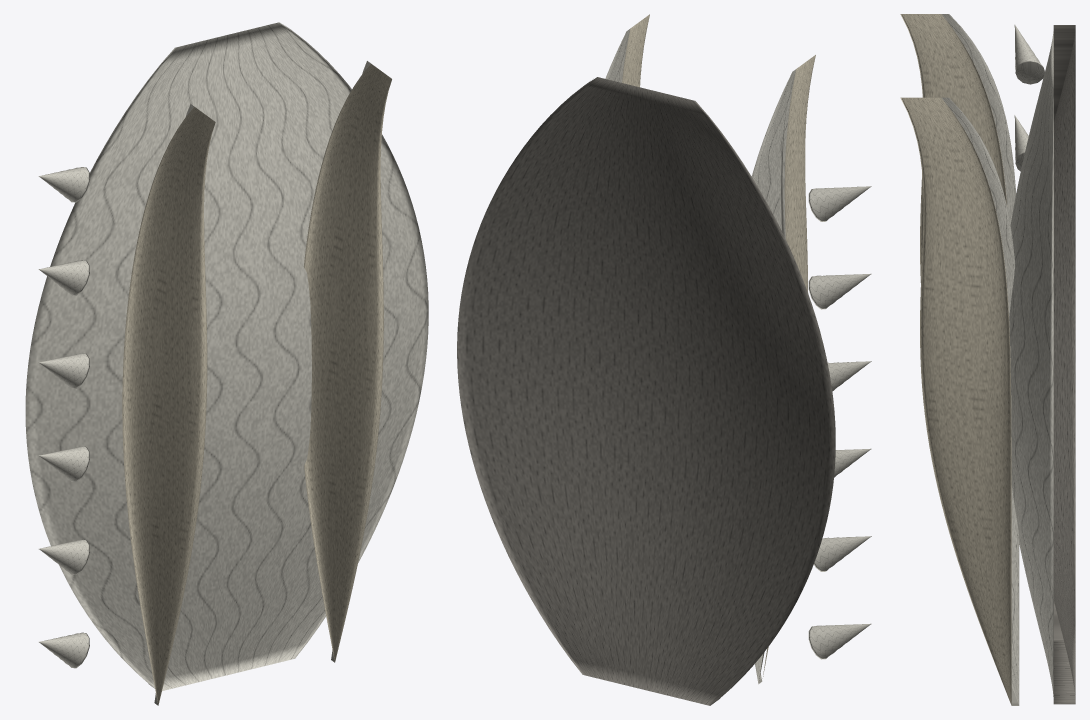
The model's file is nightmare_plate.glb.
3 renders of one model, left to right at view 1: azimuth 30°, elevation 25°; view 2: azimuth 150°, elevation 25°; view 3: azimuth 270°, elevation 25°, orthographic. The views are drawn at different scales.
Parts seen in each view (by area): view 1: Pale ivory dragon shoulder cortex, Raised white bone ridges; view 2: Fibrous grey underside, Pale ivory dragon shoulder cortex, Raised white bone ridges; view 3: Raised white bone ridges, Pale ivory dragon shoulder cortex, Fibrous grey underside.
Boxes of the visible parts, bbox=[...] form: Pale ivory dragon shoulder cortex: bbox=[25, 22, 428, 705]; Raised white bone ridges: bbox=[122, 63, 391, 705]; Fibrous grey underside: bbox=[457, 77, 835, 705]; Pale ivory dragon shoulder cortex: bbox=[605, 29, 871, 684]; Raised white bone ridges: bbox=[622, 14, 815, 678]; Raised white bone ridges: bbox=[900, 14, 1011, 705]; Pale ivory dragon shoulder cortex: bbox=[941, 14, 1053, 705]; Fibrous grey underside: bbox=[1053, 25, 1075, 704].
Size of the model in its own units: 0.295 by 0.44 by 0.1123.
3 materials, 3 textured.
